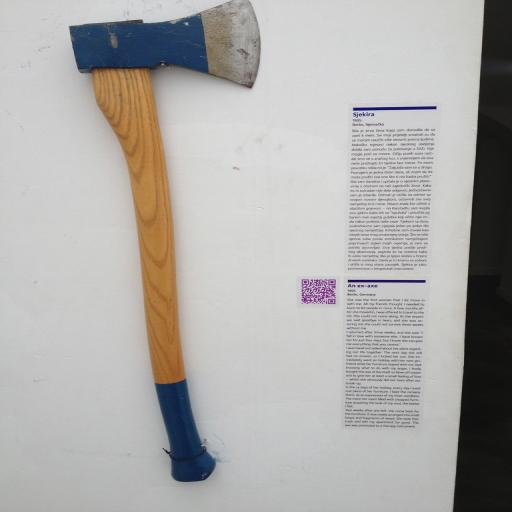Axe: (65, 0, 264, 482)
